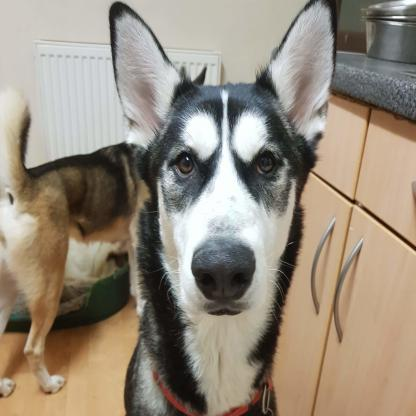husky: (110, 3, 372, 416)
